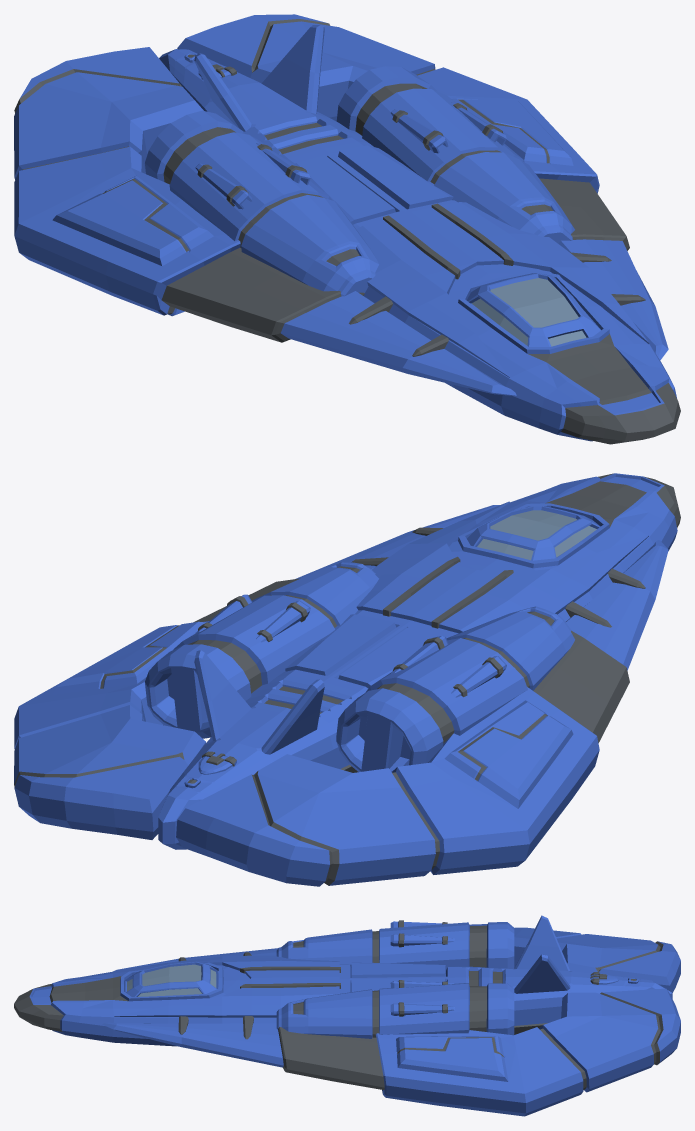
The model's file is Fighter_02_Blue.fbx.
3 renders of one model, top to bottom at view 1: azimuth 30°, elevation 25°; view 2: azimuth 150°, elevation 25°; view 3: azimuth 270°, elevation 25°, orthographic. The views are drawn at different scales.
Parts seen in each view (by area): view 1: Fighter_02_Blue; view 2: Fighter_02_Blue; view 3: Fighter_02_Blue.
Boxes of the visible parts, <box> form: Fighter_02_Blue: <box>14,14,680,444</box>; Fighter_02_Blue: <box>14,473,680,886</box>; Fighter_02_Blue: <box>14,915,680,1116</box>.
Size of the model in its own units: 783 by 220 by 1310.
Materials: 3 (3 with a texture image).
